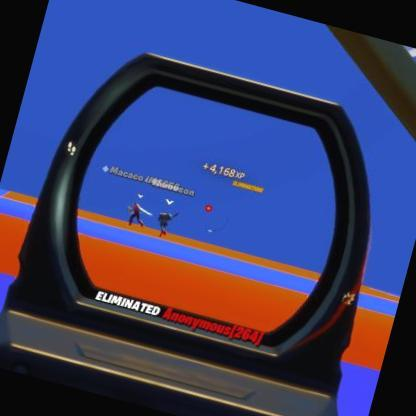person: (124, 200, 152, 228), (155, 208, 171, 230)
